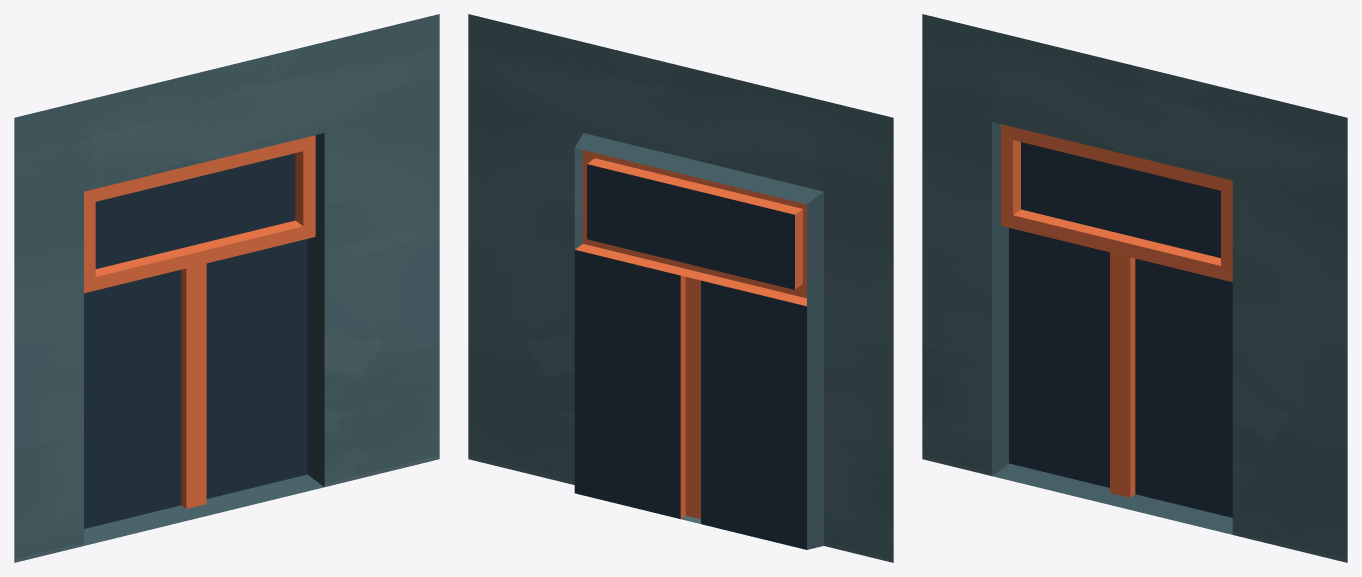
Rendered from m_face_block_big_window.FBX.
3 views of the same model, side by side, from view 1: azimuth 30°, elevation 25°; view 2: azimuth 150°, elevation 25°; view 3: azimuth 330°, elevation 25° (orthographic).
Parts seen in each view (by area): view 1: face_block_big_window; view 2: face_block_big_window; view 3: face_block_big_window.
Part boxes in pixels (x1,y1,x2,y2): face_block_big_window: (14,14,439,562); face_block_big_window: (468,14,893,562); face_block_big_window: (922,14,1347,562).
Size of the model in its own units: 100 by 100 by 5.24.
